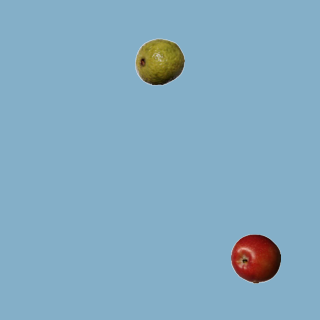Apple Braeburn: (230, 233, 280, 283)
Guava: (134, 36, 184, 86)
